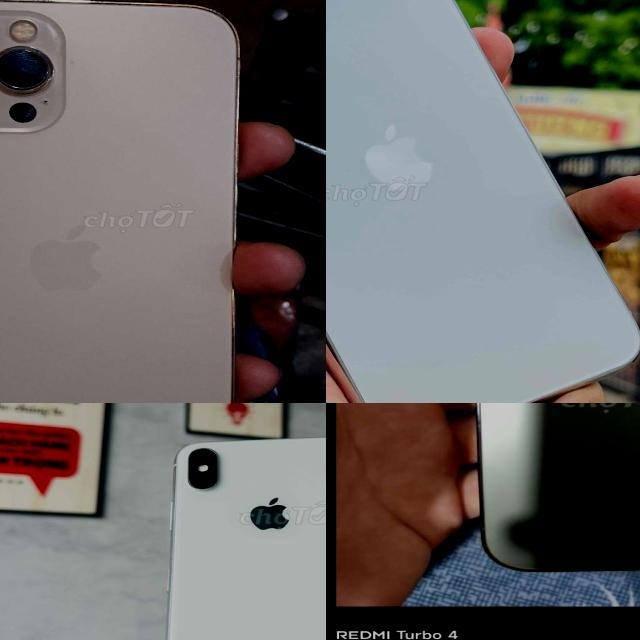gen_11: (326, 0, 640, 403)
gen_12_13: (0, 0, 240, 403), (456, 403, 640, 585)
gen_x_xs: (149, 429, 326, 640)
